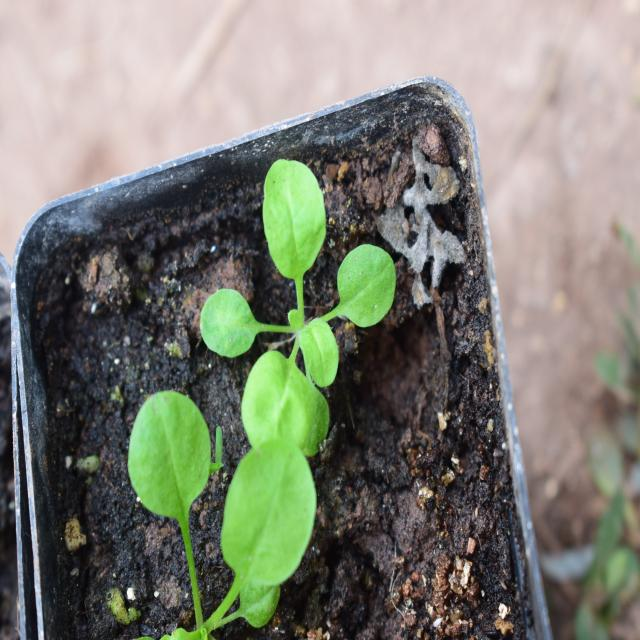Shepherd_Purse: (206, 155, 395, 440), (119, 386, 322, 628)
